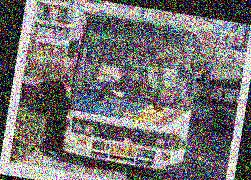bus: (52, 0, 210, 179)
